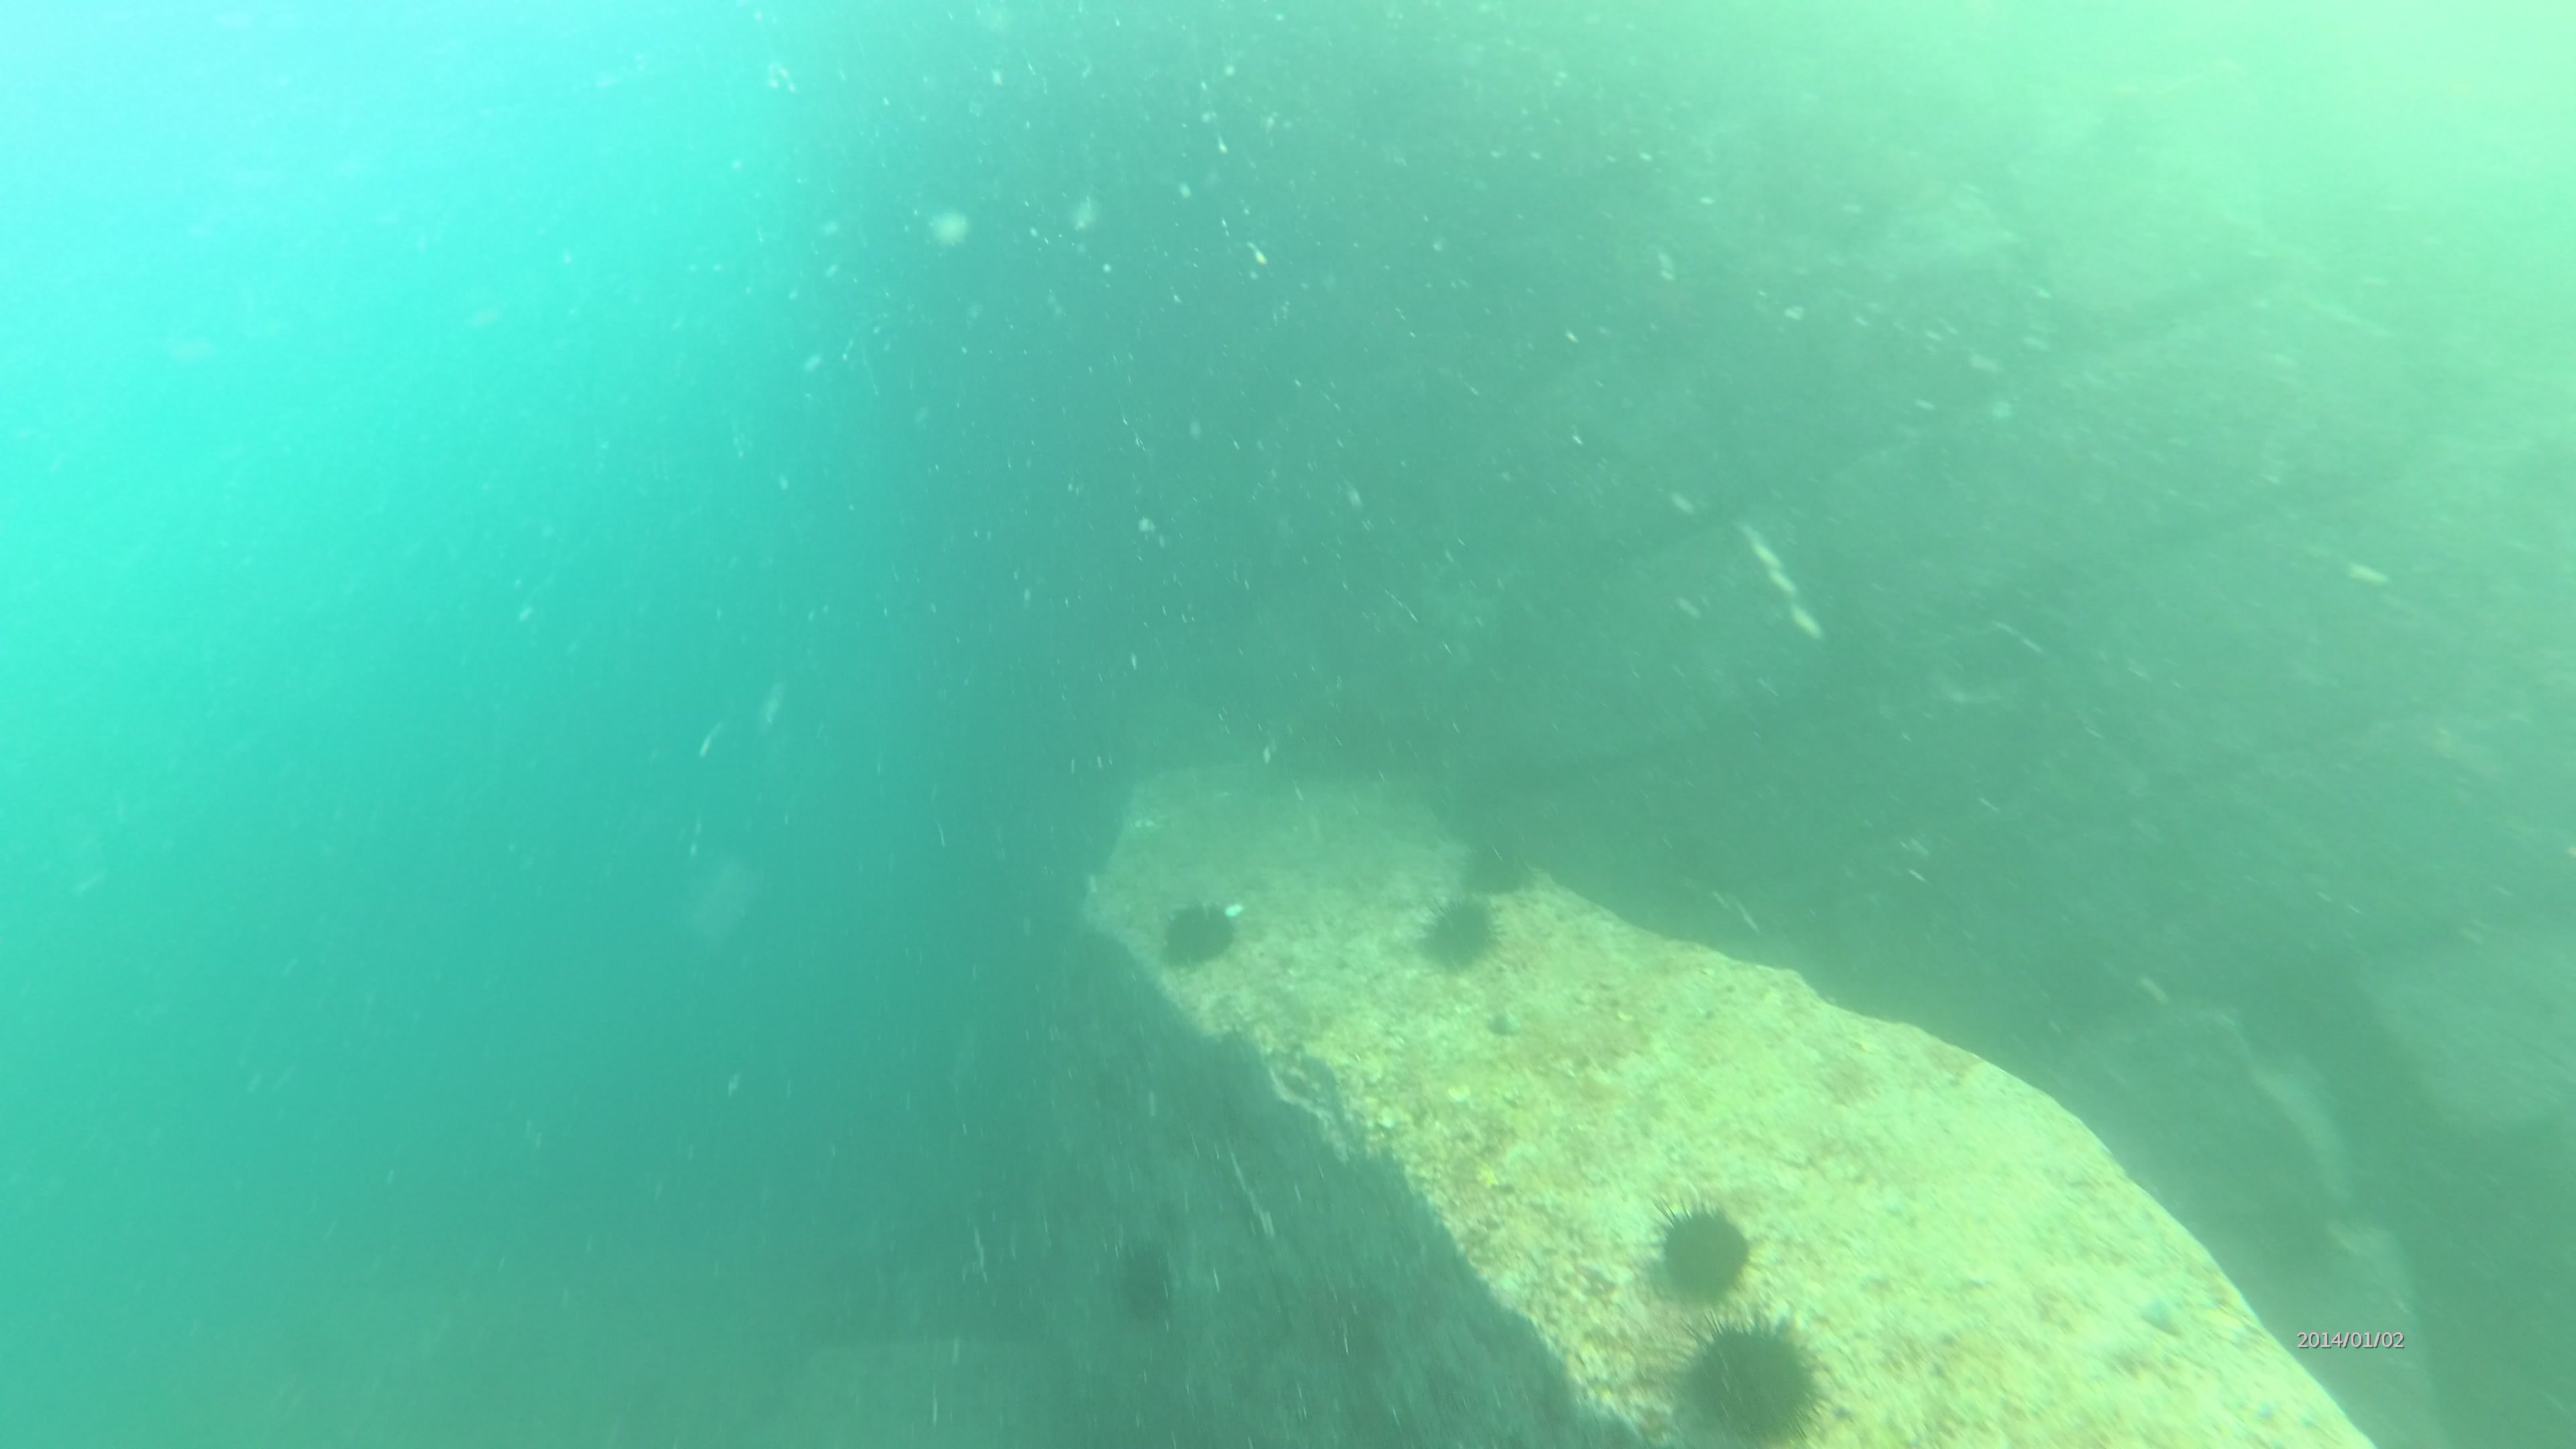echinus: (1684, 1309, 1826, 1442), (1645, 1207, 1764, 1293), (1155, 897, 1230, 973), (1111, 1240, 1173, 1316), (1453, 842, 1529, 893), (1426, 906, 1490, 962)
